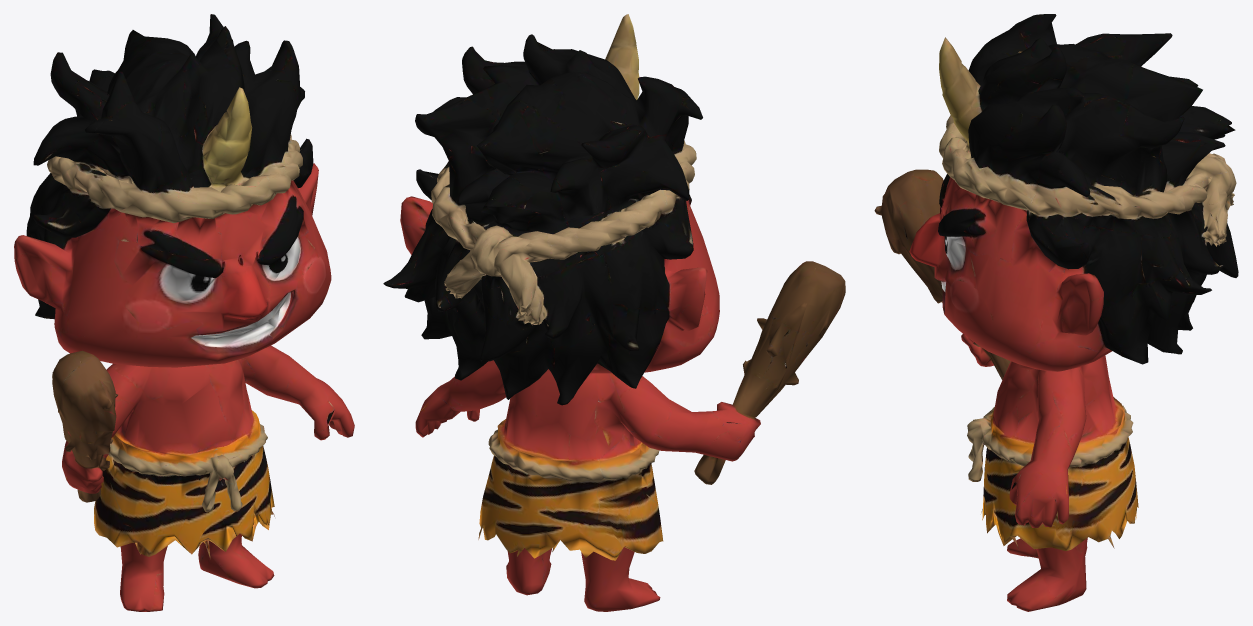
The model's file is villain-minion-v1.glb.
The picture shows the model from 3 angles, left to right: view 1: azimuth 30°, elevation 25°; view 2: azimuth 150°, elevation 25°; view 3: azimuth 270°, elevation 25°; orthographic projection.
Bounding box in the file's own units: 1.28 × 1.9 × 1.14.
1 material, 1 textured.
